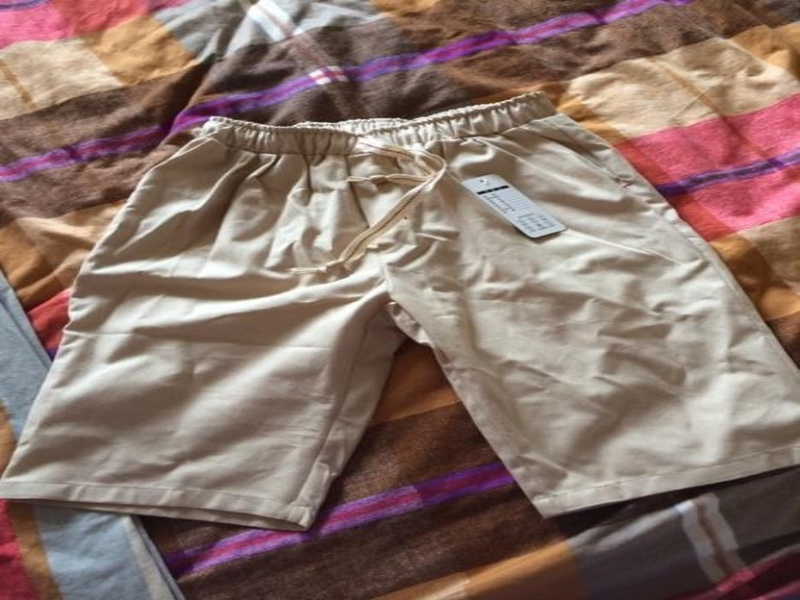shorts: (0, 88, 798, 537)
